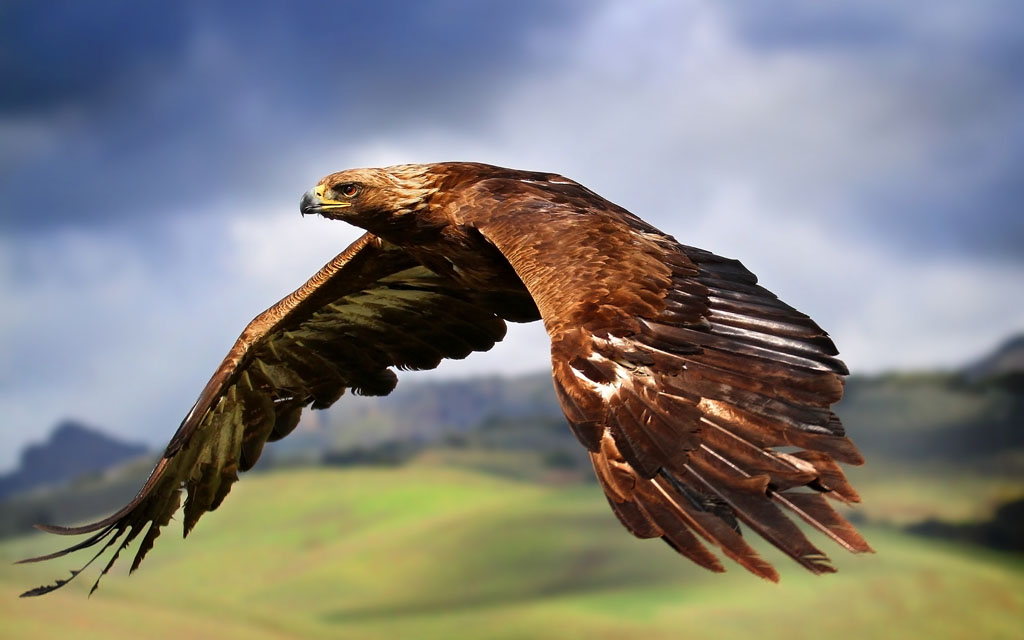bird: (13, 157, 869, 607)
